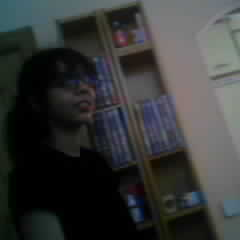without_mask: (42, 56, 95, 124)
